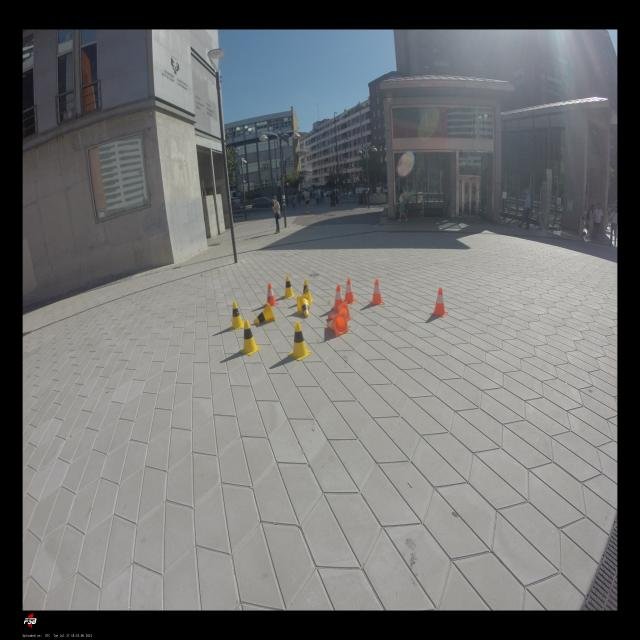orange_cone: (327, 312, 348, 337), (431, 288, 448, 318), (328, 302, 350, 322), (369, 279, 385, 306), (264, 283, 279, 307), (331, 284, 344, 311), (343, 279, 357, 304)
yellow_cone: (288, 321, 312, 361), (239, 320, 261, 356), (254, 302, 275, 324), (231, 302, 244, 330), (297, 294, 310, 318), (282, 276, 296, 298), (303, 279, 315, 302)
